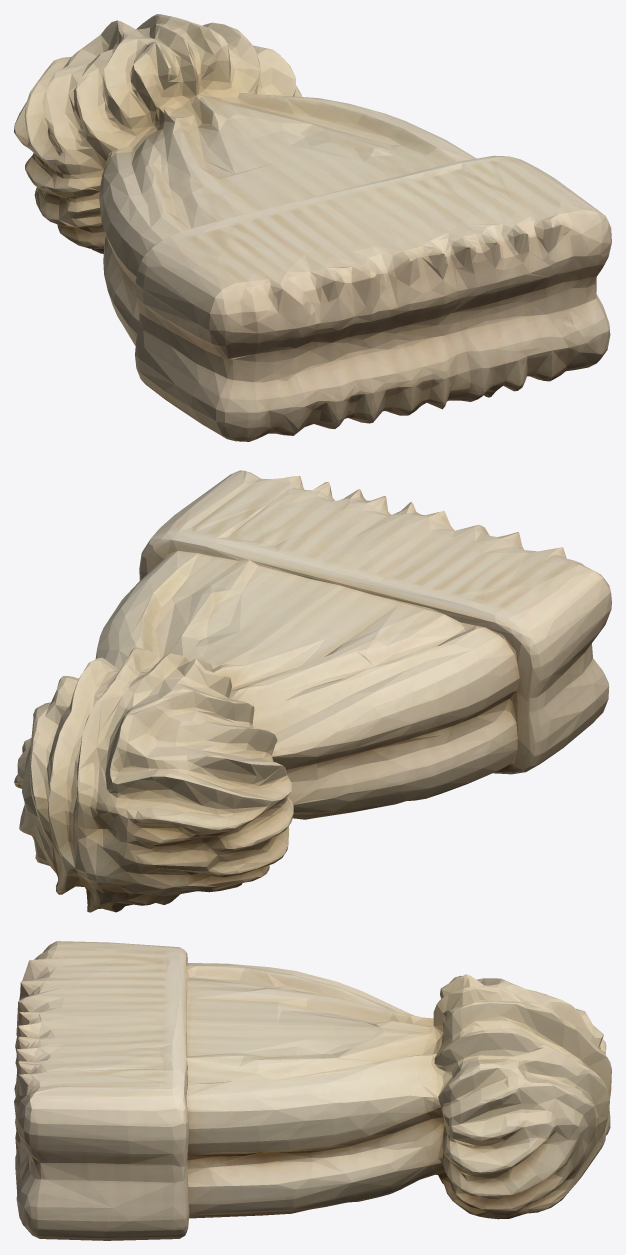
The model's file is blanket_beige_folded.glb.
The picture shows the model from 3 angles, top to bottom: view 1: azimuth 30°, elevation 25°; view 2: azimuth 150°, elevation 25°; view 3: azimuth 270°, elevation 25°; orthographic projection. The views are drawn at different scales.
Visible parts, largest first — view 1: geometry_0; view 2: geometry_0; view 3: geometry_0.
Boxes of the visible parts, <box> form: geometry_0: <box>14,14,611,441</box>; geometry_0: <box>14,470,611,912</box>; geometry_0: <box>14,941,611,1240</box>.
Bounding box in the file's own units: 0.6914 × 0.3911 × 0.9971.
1 material, 1 textured.
